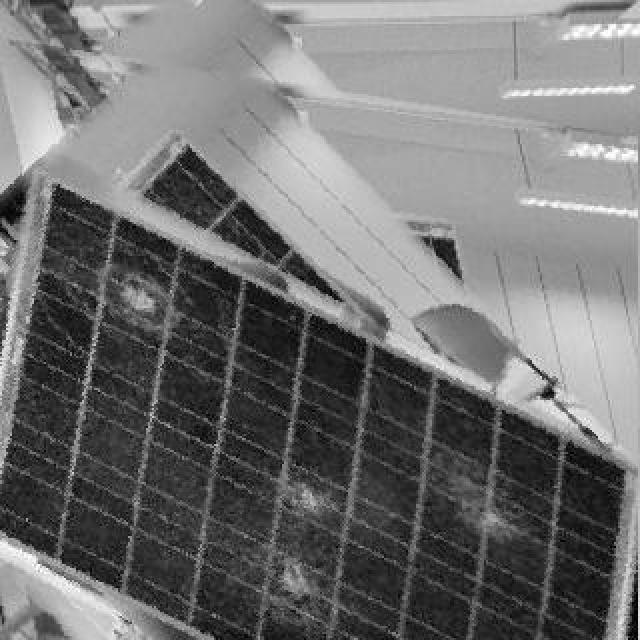Physical-damage: (273, 453, 341, 635), (80, 249, 195, 354), (433, 445, 529, 545)
